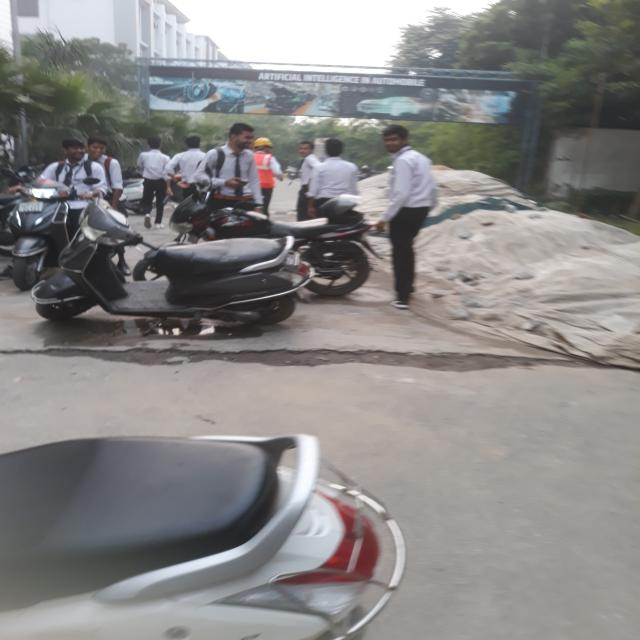safe: (256, 134, 283, 212)
unsafe: (374, 123, 434, 309), (36, 132, 109, 198), (209, 118, 261, 202), (136, 136, 169, 227), (322, 138, 359, 215), (291, 140, 321, 217), (171, 137, 207, 193)
